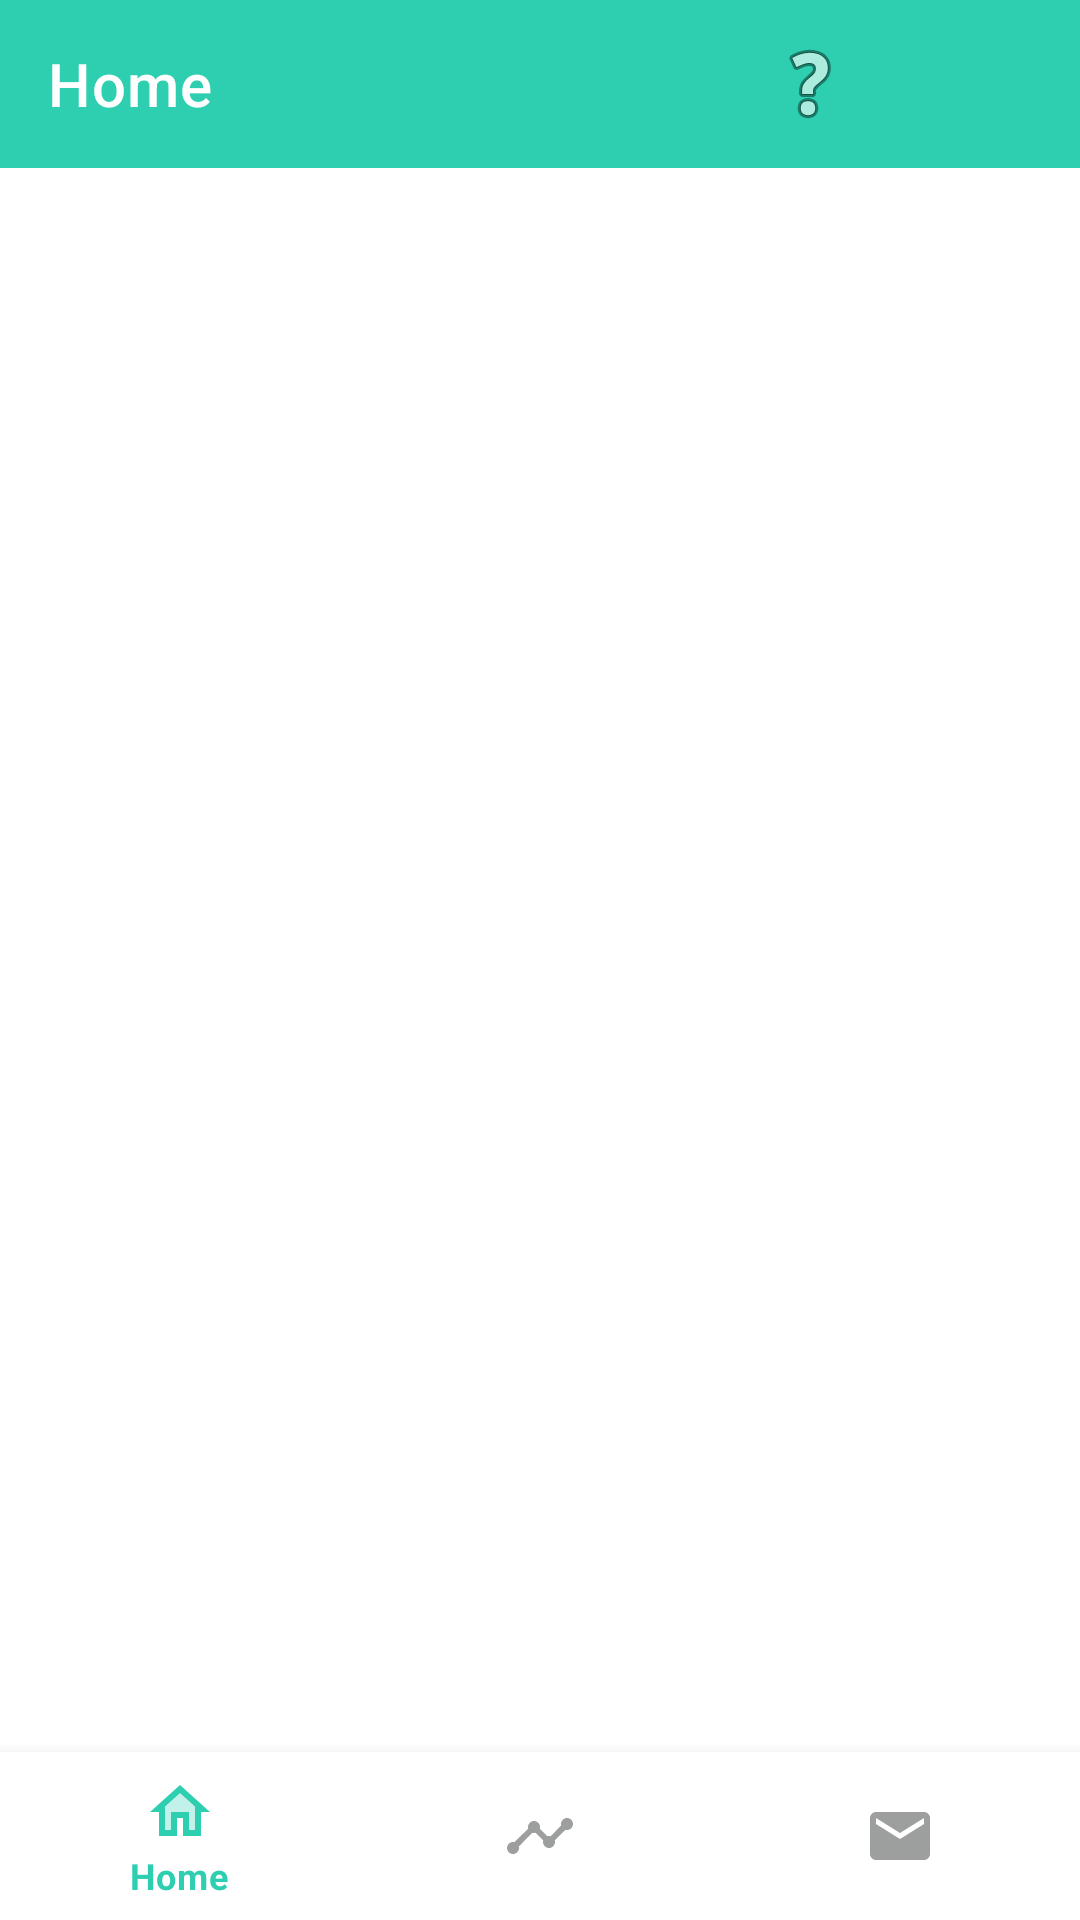

Icons on this 1080 x 1920 Android screen, each with its box as [x1,y1,x2,y2]:
help: [789,50,831,118]
